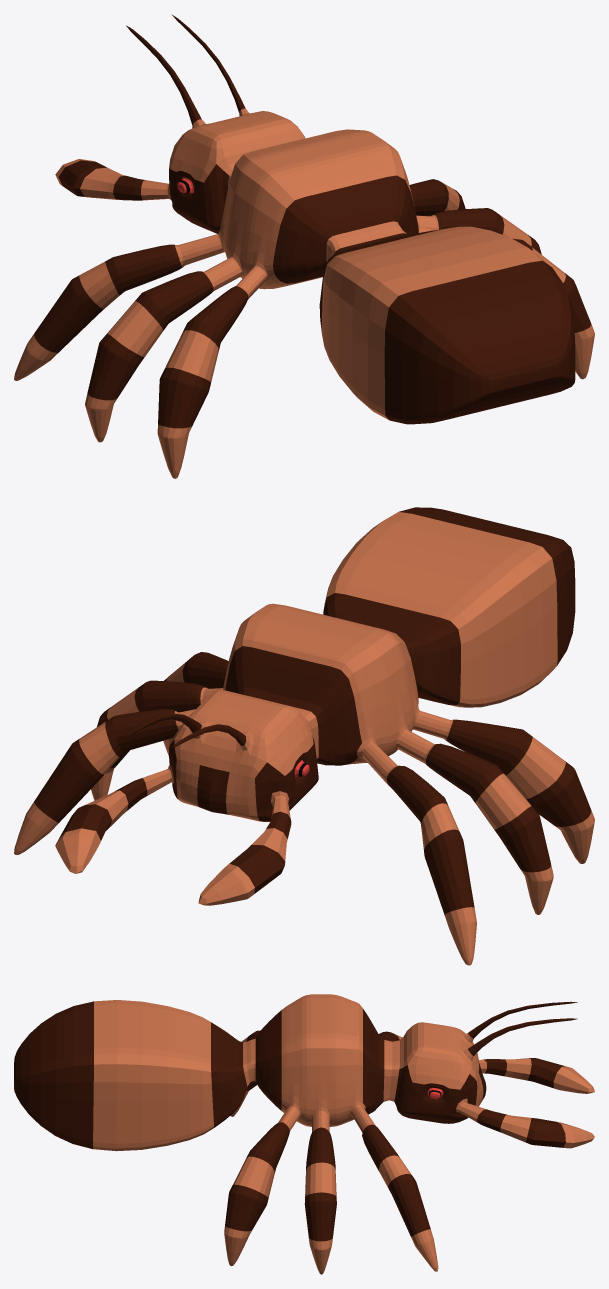
Rendered from hormigav2.fbx.
The picture shows the model from 3 angles, top to bottom: view 1: azimuth 30°, elevation 25°; view 2: azimuth 150°, elevation 25°; view 3: azimuth 270°, elevation 25°; orthographic projection. The views are drawn at different scales.
Visible parts, largest first — view 1: Cube; view 2: Cube; view 3: Cube.
Boxes of the visible parts, x1,y1,x2,y2 form: Cube: [14, 15, 594, 478]; Cube: [14, 507, 594, 965]; Cube: [14, 994, 594, 1274].
Size of the model in its own units: 565 by 284 by 813.
